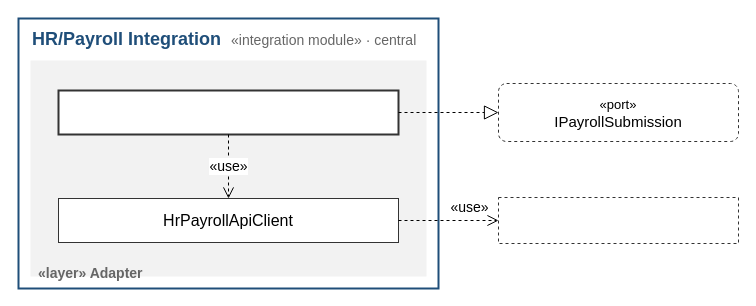
Image size: 756x306. Some labels were removed from this diagram. The shapes that lost their labels are listed below. From the top down, each one's centre as x and y in pixels, then its label:
the point at 228,112: HrPayrollAdapter
the point at 618,220: HR/Payroll API external
